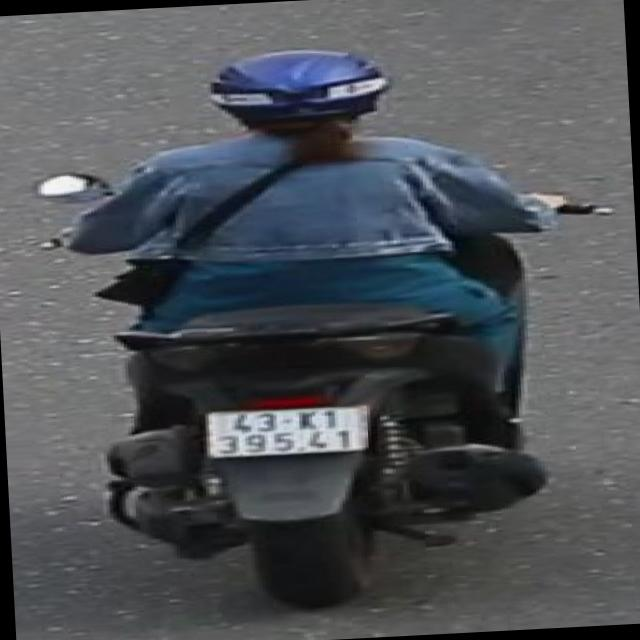LP: (198, 396, 375, 464)
helmet: (202, 40, 394, 146)
